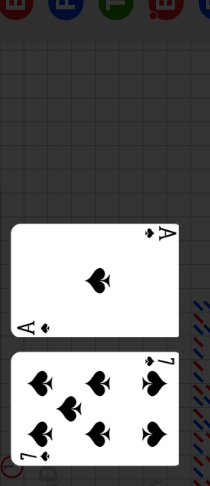AS: (141, 226, 177, 244), (15, 320, 52, 336)
